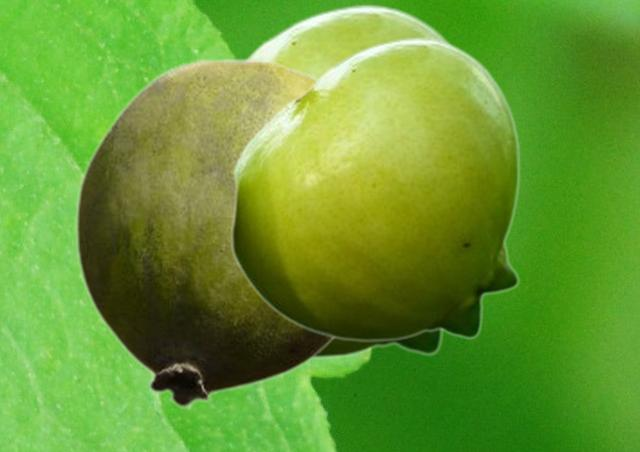guava: (74, 57, 335, 407), (229, 36, 520, 341), (242, 3, 451, 358)
